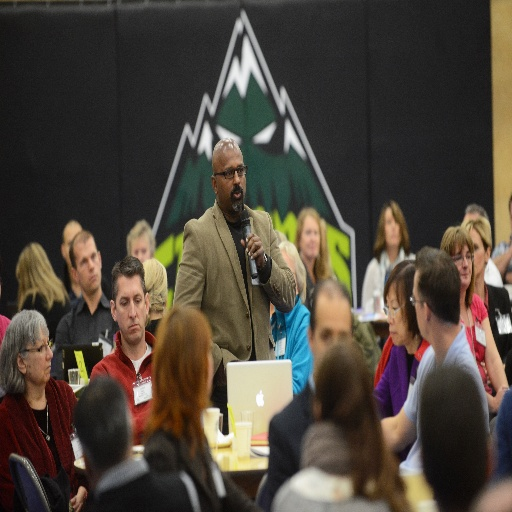hand: (238, 225, 275, 280), (69, 484, 88, 511), (494, 386, 509, 412)
